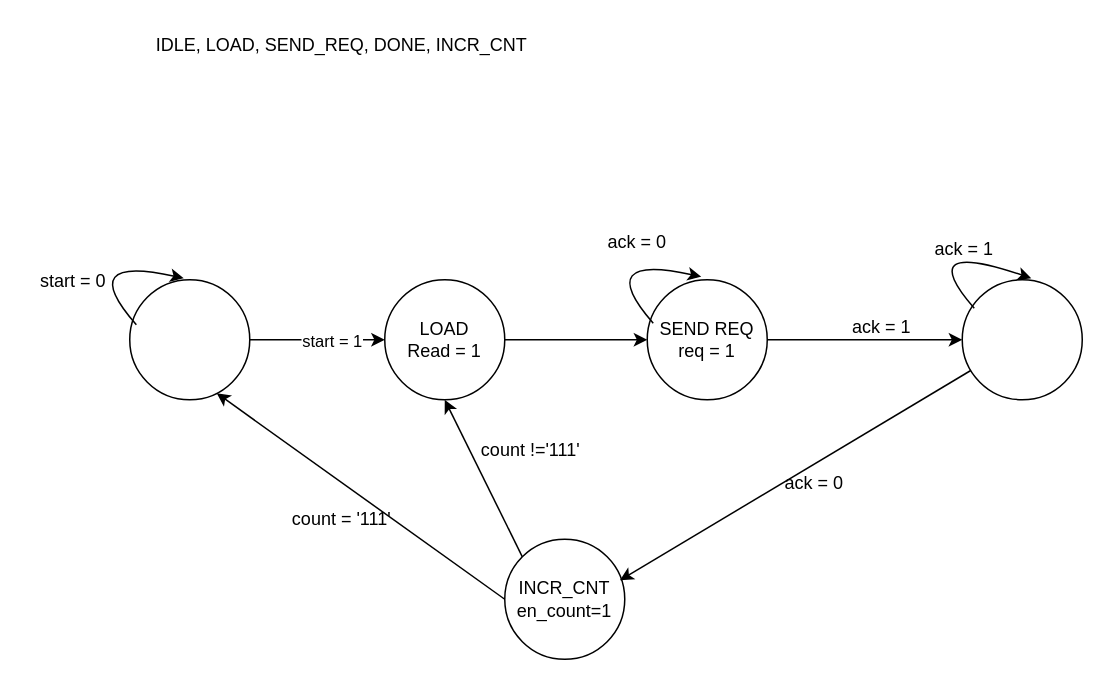
Some shapes in this 1109 by 686 pixel diagram are drawn without their labels. Each missing label, with the box of its shape:
DONE req = 0 Read = 0: (961, 278, 1082, 400)
idle: (128, 278, 250, 400)
